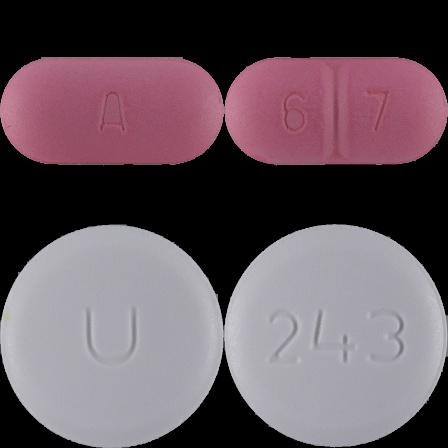63187-325: (0, 0, 224, 224)
